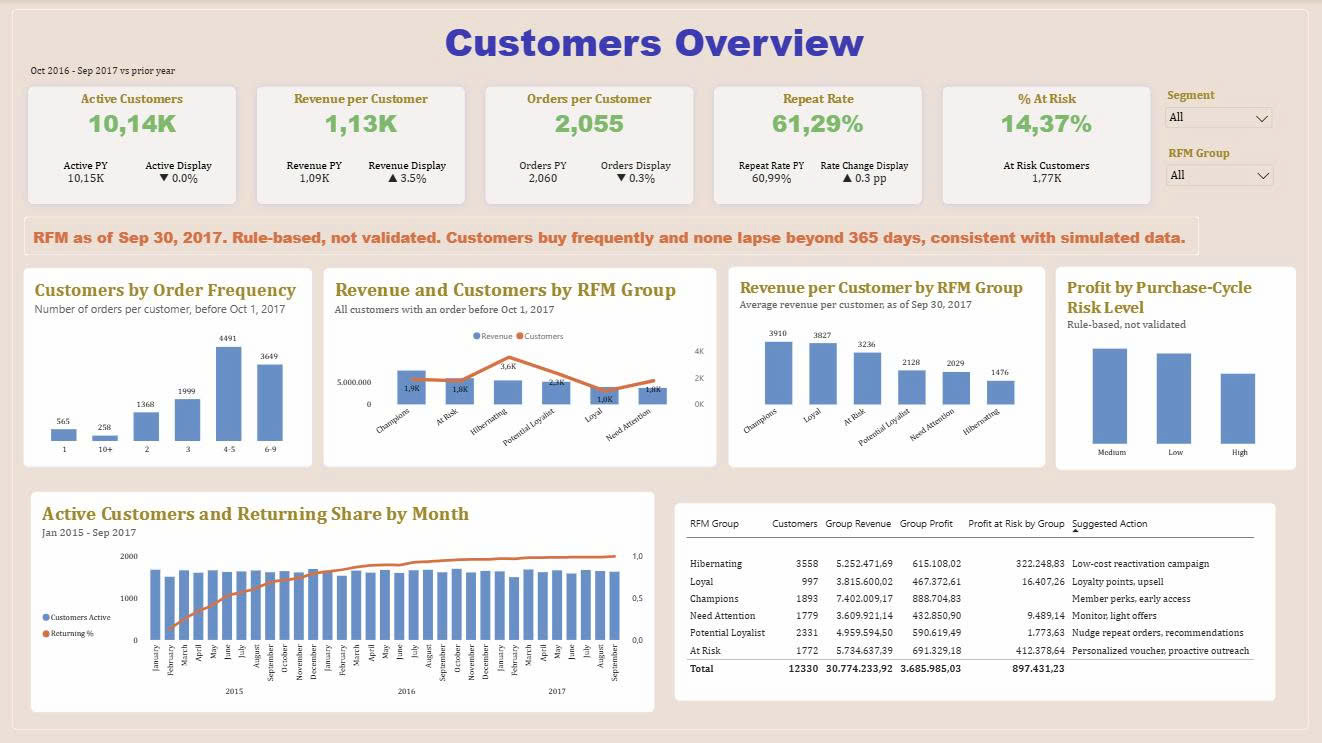

Layout of this report page (visuals, bound fields, positions):
{"tool":"powerbi","page":{"name":"Customers","canvas":[1920,1080],"ordinal":1},"visuals":[{"type":"shape","box":[19.4,13.6,1877.7,1043.6],"z":0},{"type":"cardVisual","fields":{"Data":["Customer Measure.Active Customers","Customer Measure.Revenue per Customer","Customer Measure.Orders per Customer","Customer Measure.Repeat Rate","Customer Measure.% At Risk"]},"box":[33,116.4,1648.8,192],"z":1000},{"type":"textbox","box":[646.6,23.7,635.8,86.2],"z":2000},{"type":"textbox","box":[47.1,94.1,235.3,33.7],"z":3000},{"type":"tableEx","fields":{"Values":["RFM.RFM Group","RFM.rows","RFM.Group Revenue","RFM.Group Profit","RFM.Profit at Risk by Group","RFM.Suggested Action"]},"box":[979.5,728.8,871.5,287.3],"z":4000},{"type":"clusteredColumnChart","title":"Customers by Order Frequency","fields":{"Category":["RFM.Frequency Band"],"Y":["RFM.rows"]},"box":[36.9,389.9,419,289],"z":5000},{"type":"clusteredColumnChart","title":"Revenue per Customer by RFM Group","fields":{"Category":["RFM.RFM Group"],"Y":["RFM.Revenue per Customer (RFM)"]},"box":[1057.2,388,459.7,291],"z":6000},{"type":"clusteredColumnChart","title":"Profit by Purchase-Cycle Risk Level","fields":{"Category":["RFM.Risk Flag"],"Y":["RFM.Profit at Risk by Group"]},"box":[1530.5,388,349.2,294.8],"z":7000},{"type":"shape","box":[38,314.9,1701.1,56.1],"z":7500,"group":"g1"},{"type":"textbox","box":[51.5,329.3,1688.8,41.4],"z":8000,"group":"g1"},{"type":"lineClusteredColumnComboChart","title":"Revenue and Customers by RFM Group","fields":{"Category":["RFM.RFM Group"],"Y":["RFM.Group Revenue"],"Y2":["RFM.rows"]},"box":[471.4,389.9,570.3,289],"z":8000},{"type":"lineClusteredColumnComboChart","title":"Active Customers and Returning Share by Month","fields":{"Category":["Date.Month Start.Variation.Date Hierarchy.Year","Date.Month Start.Variation.Date Hierarchy.Month"],"Y":["Customer Measure.Customers Active in Month"],"Y2":["Customer Measure.Returning %"]},"box":[46.6,713.8,903.9,320.1],"z":9000},{"type":"group","id":"g1","title":"Group 1","box":[38,314.9,1702.3,56.1],"z":10000},{"type":"slicer","fields":{"Values":["dim_customer.customer_segment"]},"box":[1684.8,128.5,164.7,70.6],"z":11000},{"type":"slicer","fields":{"Values":["RFM.RFM Group"]},"box":[1686.6,211.7,164.7,70.6],"z":12000}]}

Visuals, with their boxes in screenshot pixels (x1, y1, x2, y2), scaled from the page's 1920x1080 canvas onto the 1322x743 screenshot:
shape: bbox=[13, 9, 1306, 727]
cardVisual - Customer Measure.Active Customers x Customer Measure.Revenue per Customer: bbox=[23, 80, 1158, 212]
textbox: bbox=[445, 16, 883, 76]
textbox: bbox=[32, 65, 194, 88]
tableEx - RFM.RFM Group x RFM.rows: bbox=[674, 501, 1274, 699]
"Customers by Order Frequency" clusteredColumnChart: bbox=[25, 268, 314, 467]
"Revenue per Customer by RFM Group" clusteredColumnChart: bbox=[728, 267, 1044, 467]
"Profit by Purchase-Cycle Risk Level" clusteredColumnChart: bbox=[1054, 267, 1294, 470]
shape: bbox=[26, 217, 1197, 255]
textbox: bbox=[35, 227, 1198, 255]
"Revenue and Customers by RFM Group" lineClusteredColumnComboChart: bbox=[325, 268, 717, 467]
"Active Customers and Returning Share by Month" lineClusteredColumnComboChart: bbox=[32, 491, 654, 711]
"Group 1" group: bbox=[26, 217, 1198, 255]
slicer - dim_customer.customer_segment: bbox=[1160, 88, 1273, 137]
slicer - RFM.RFM Group: bbox=[1161, 146, 1275, 194]
